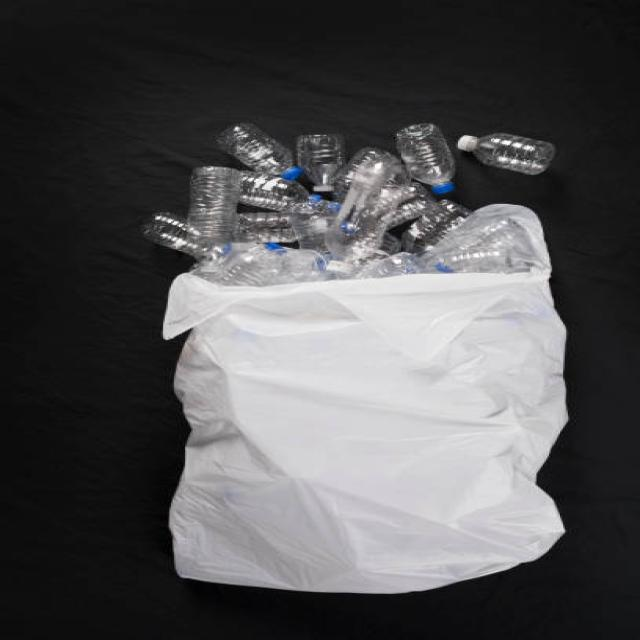plastic: (168, 118, 518, 263)
trash: (146, 265, 576, 598)
